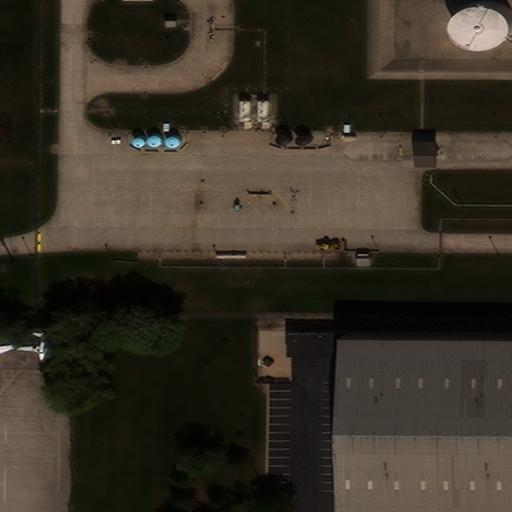Small Civil Transport: (17, 331, 64, 360)
